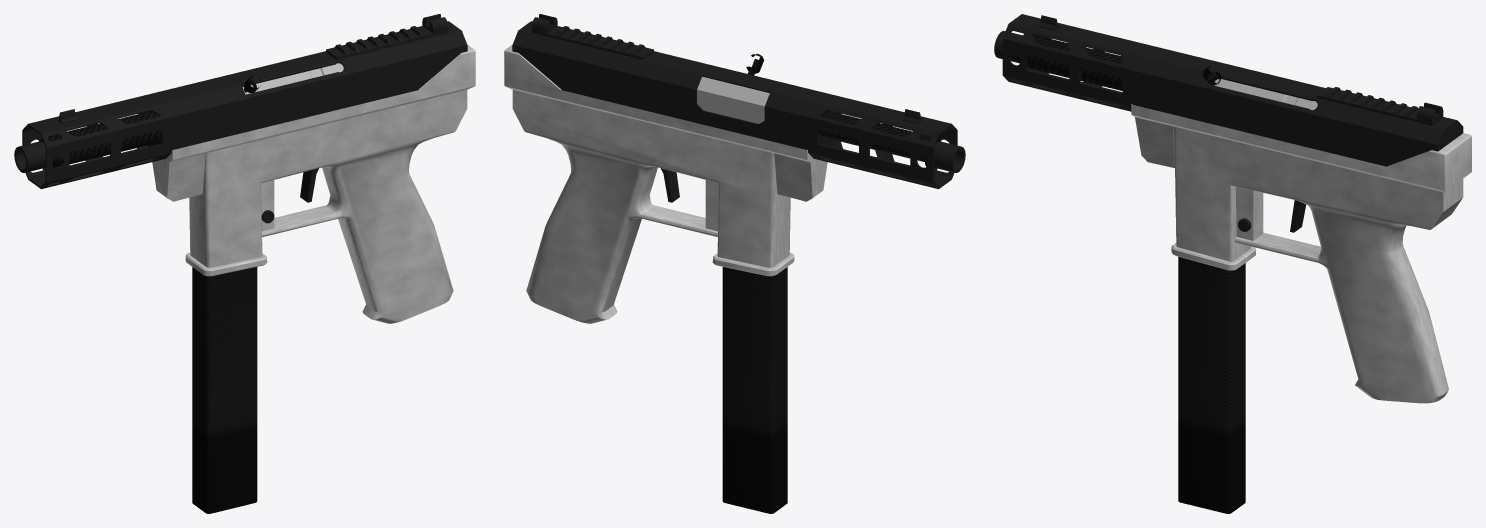
Rendered from Space_Tec_9.fbx.
3 views of the same model, side by side, from view 1: azimuth 30°, elevation 25°; view 2: azimuth 150°, elevation 25°; view 3: azimuth 330°, elevation 25° (orthographic). The views are drawn at different scales.
Visible parts, largest first — view 1: Wapon Body, Chamber, Magazin, Bolt; view 2: Wapon Body, Chamber, Magazin, Bolt; view 3: Wapon Body, Chamber, Magazin, Bolt.
Part boxes in pixels (<box>): Wapon Body: <box>152,45,475,323</box>; Chamber: <box>14,14,467,223</box>; Magazin: <box>192,267,257,513</box>; Bolt: <box>242,63,343,94</box>; Wapon Body: <box>504,45,827,323</box>; Chamber: <box>512,14,965,189</box>; Magazin: <box>722,267,787,513</box>; Bolt: <box>697,54,769,123</box>; Wapon Body: <box>1131,104,1471,403</box>; Chamber: <box>994,14,1463,231</box>; Magazin: <box>1178,256,1245,513</box>; Bolt: <box>1202,66,1317,110</box>.
Size of the model in its own units: 31.74 by 29.73 by 3.96.
